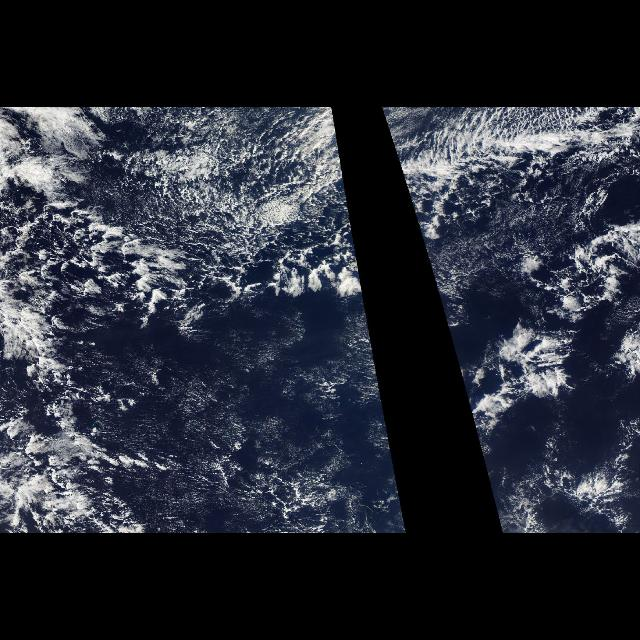Gravel: (18, 150, 370, 320), (394, 150, 624, 320)
